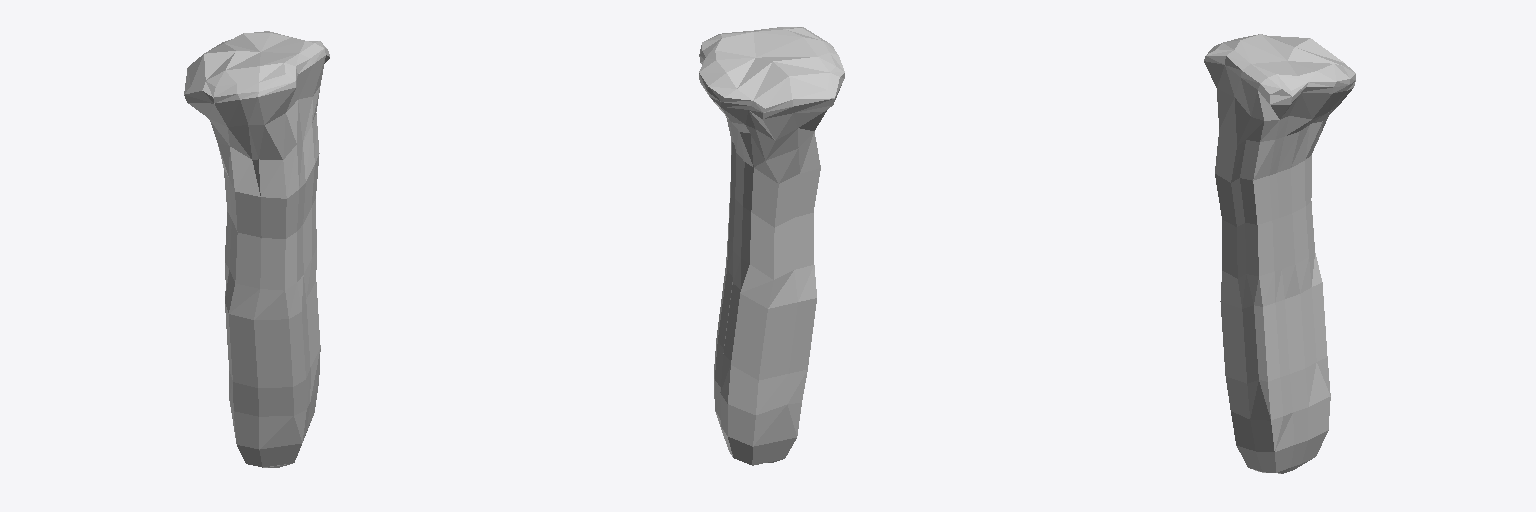
Rendered from platformEmpty.obj.
The picture shows the model from 3 angles: view 1: azimuth 30°, elevation 25°; view 2: azimuth 150°, elevation 25°; view 3: azimuth 270°, elevation 25°; orthographic projection.
Visible parts, largest first — view 1: platformEmpty PlatfprmsAndSpikes; view 2: platformEmpty PlatfprmsAndSpikes; view 3: platformEmpty PlatfprmsAndSpikes.
Boxes of the visible parts, x1=… form: platformEmpty PlatfprmsAndSpikes: x1=184, y1=31, x2=329, y2=467; platformEmpty PlatfprmsAndSpikes: x1=699, y1=27, x2=844, y2=465; platformEmpty PlatfprmsAndSpikes: x1=1204, y1=34, x2=1355, y2=473.
Size of the model in its own units: 6.84 by 19.61 by 6.49.